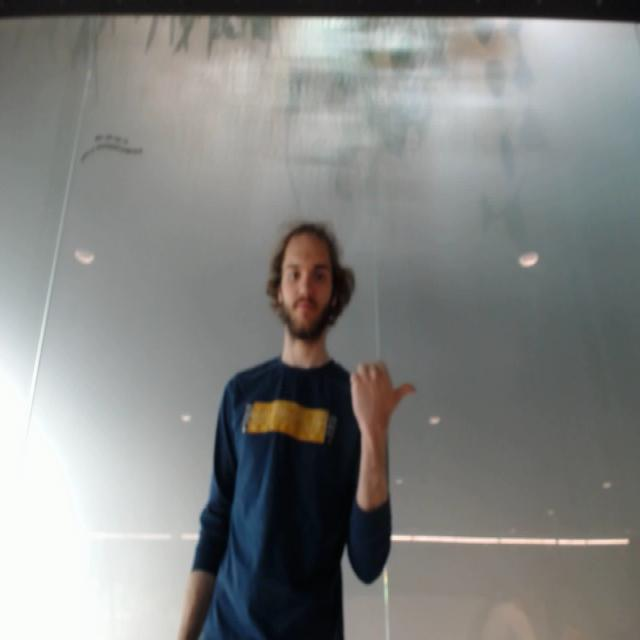right: (346, 353, 418, 433)
